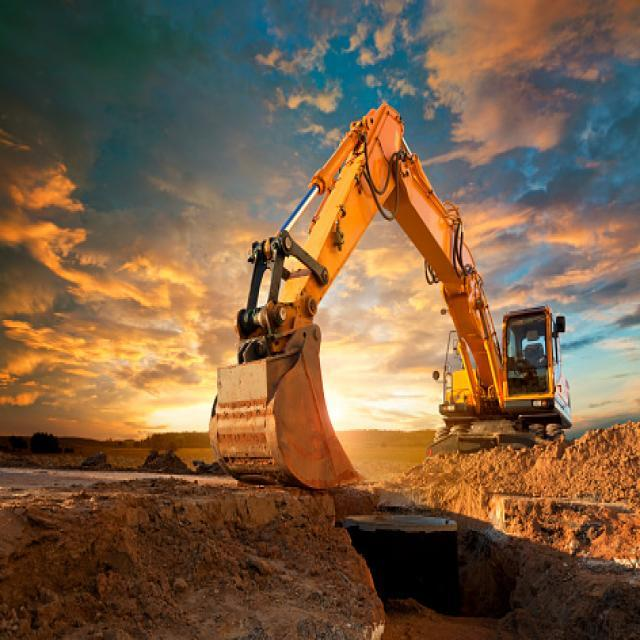C_E: (201, 97, 574, 496)
